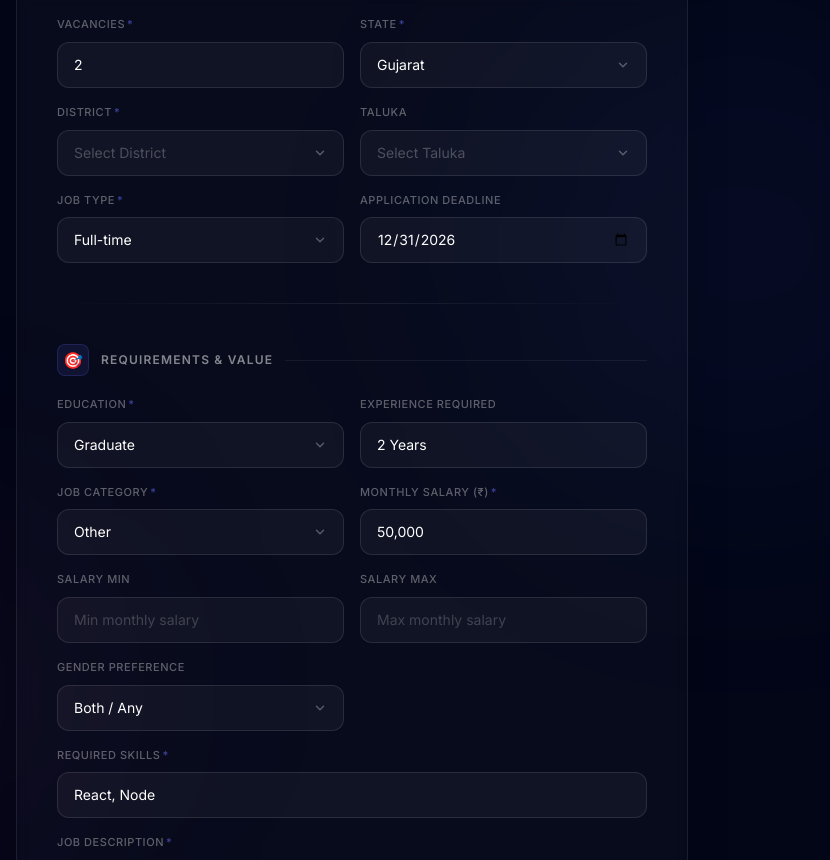
Test: EditJob Page › handles custom dropdown interactions
(page scrolled)
# Open Education dropdown
Click the button "Graduate": (104, 444) [57,422,344,468]
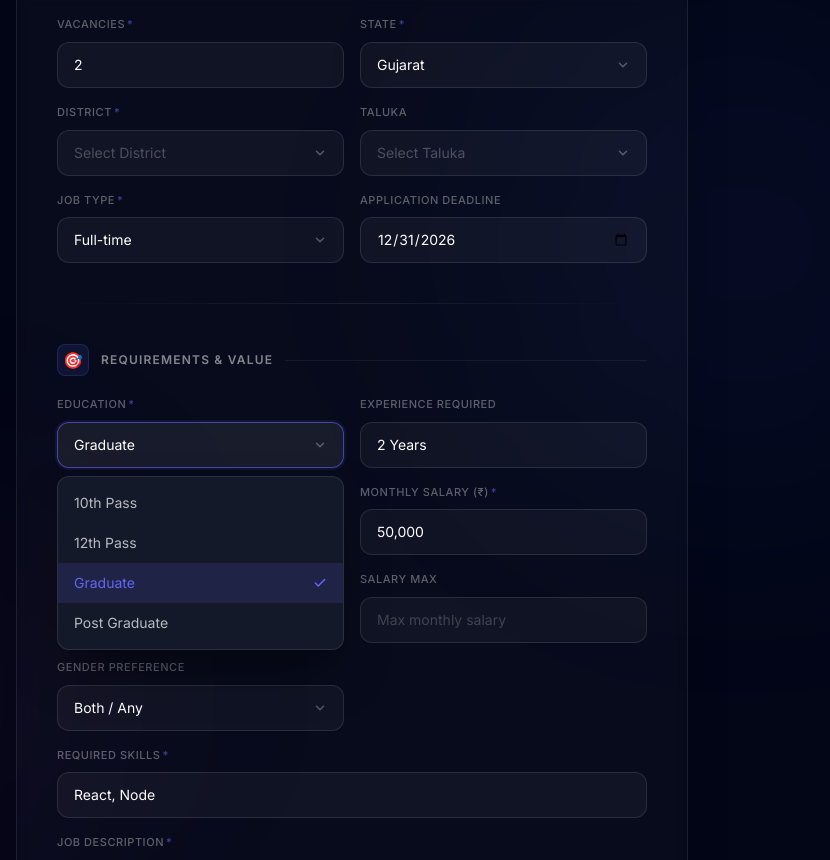
# Select Post Graduate
Click the button "Post Graduate": (121, 622) [58,603,343,643]
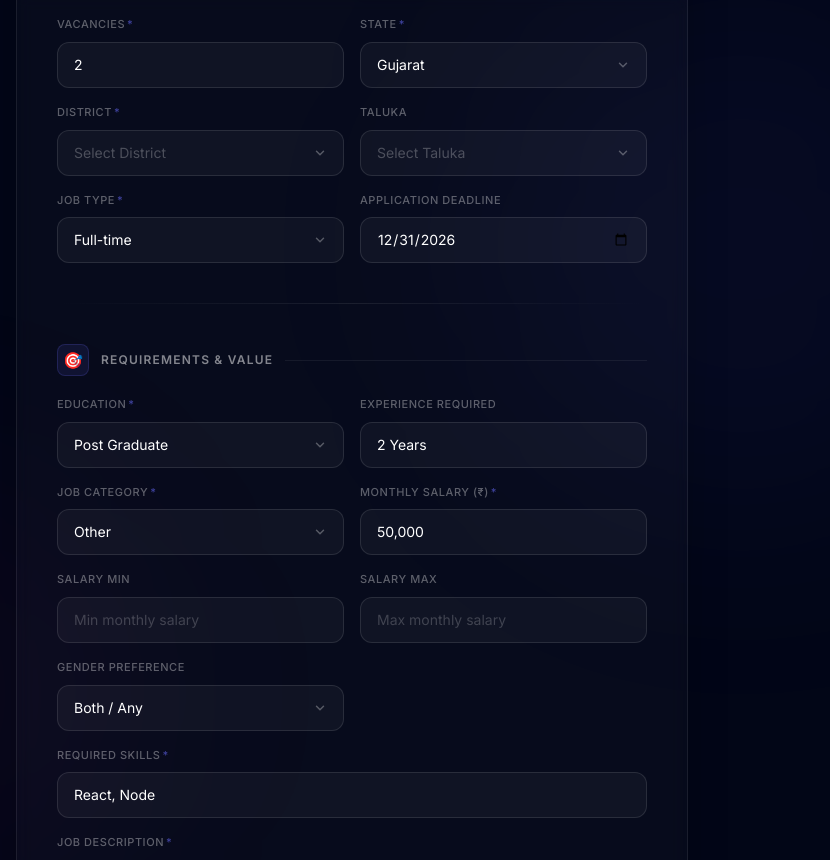
Now the text "Post Graduate" is shown, box [74,435,168,455]
